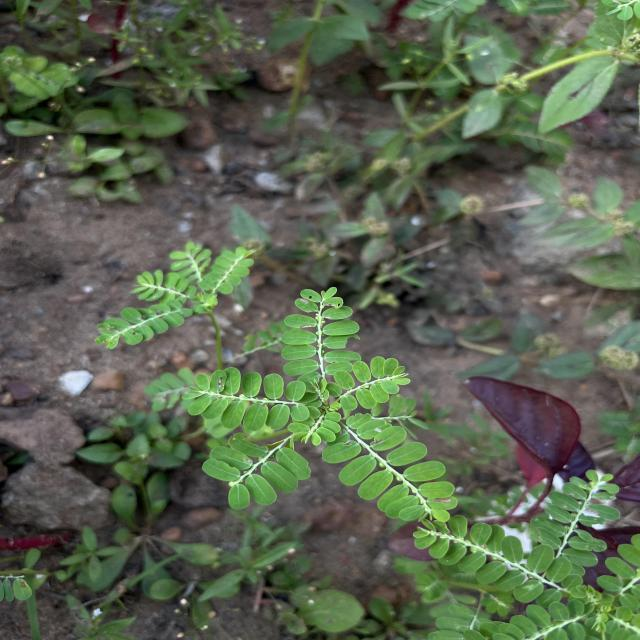Phyllanthus niruri: (407, 512, 582, 606), (322, 412, 460, 525), (198, 432, 330, 512), (178, 366, 316, 434), (279, 283, 362, 393), (535, 468, 622, 568), (324, 354, 411, 412)
